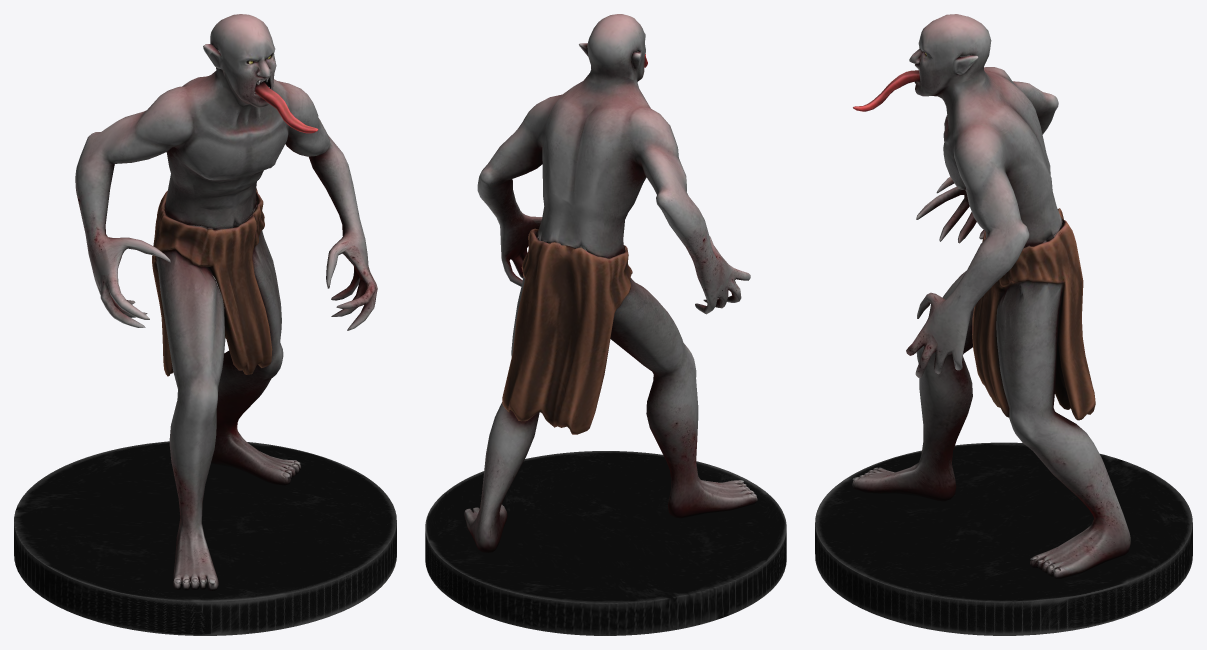
Rendered from MZ4250 - Ghoul.glb.
The picture shows the model from 3 angles, left to right: view 1: azimuth 30°, elevation 25°; view 2: azimuth 150°, elevation 25°; view 3: azimuth 270°, elevation 25°; orthographic projection. The views are drawn at different scales.
Parts seen in each view (by area): view 1: body_low.001, base_low.001; view 2: body_low.001, base_low.001; view 3: body_low.001, base_low.001.
Part boxes in pixels (x1,y1,x2,y2): body_low.001: (75, 14, 377, 590); base_low.001: (14, 441, 396, 635); body_low.001: (464, 14, 757, 552); base_low.001: (425, 451, 786, 635); body_low.001: (852, 14, 1130, 578); base_low.001: (815, 442, 1192, 635).
Bounding box in the file's own units: 1.05 × 1.67 × 1.05.
Materials: 1 (1 with a texture image).
